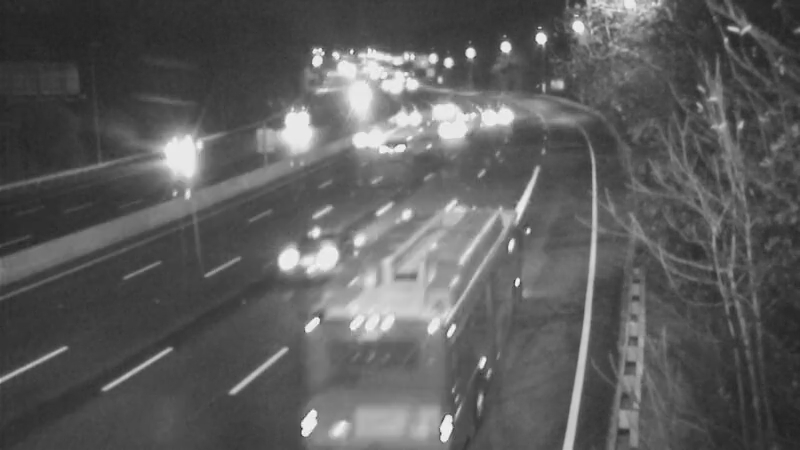vehicle: (334, 276, 444, 386), (272, 216, 352, 296), (143, 120, 223, 200), (473, 84, 523, 134), (444, 92, 494, 142), (390, 85, 440, 135), (429, 103, 479, 153), (340, 109, 390, 159), (369, 123, 419, 173), (271, 102, 321, 152)
